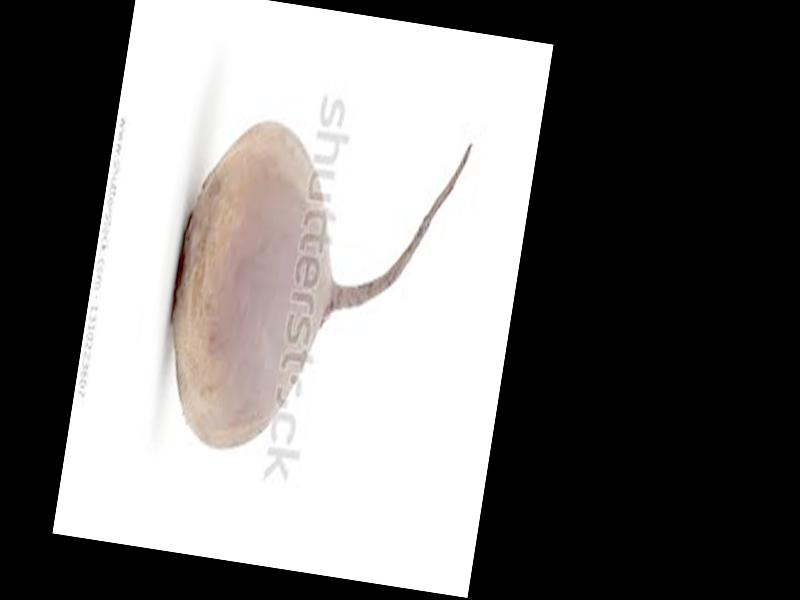Beet: (149, 102, 472, 484)
